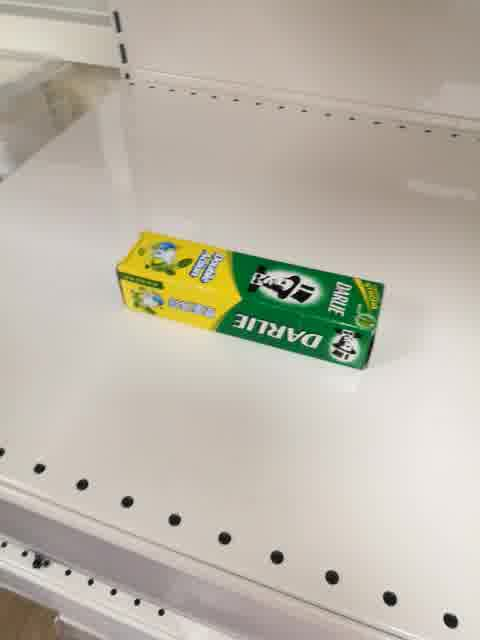toothpaste: (115, 228, 387, 373)
